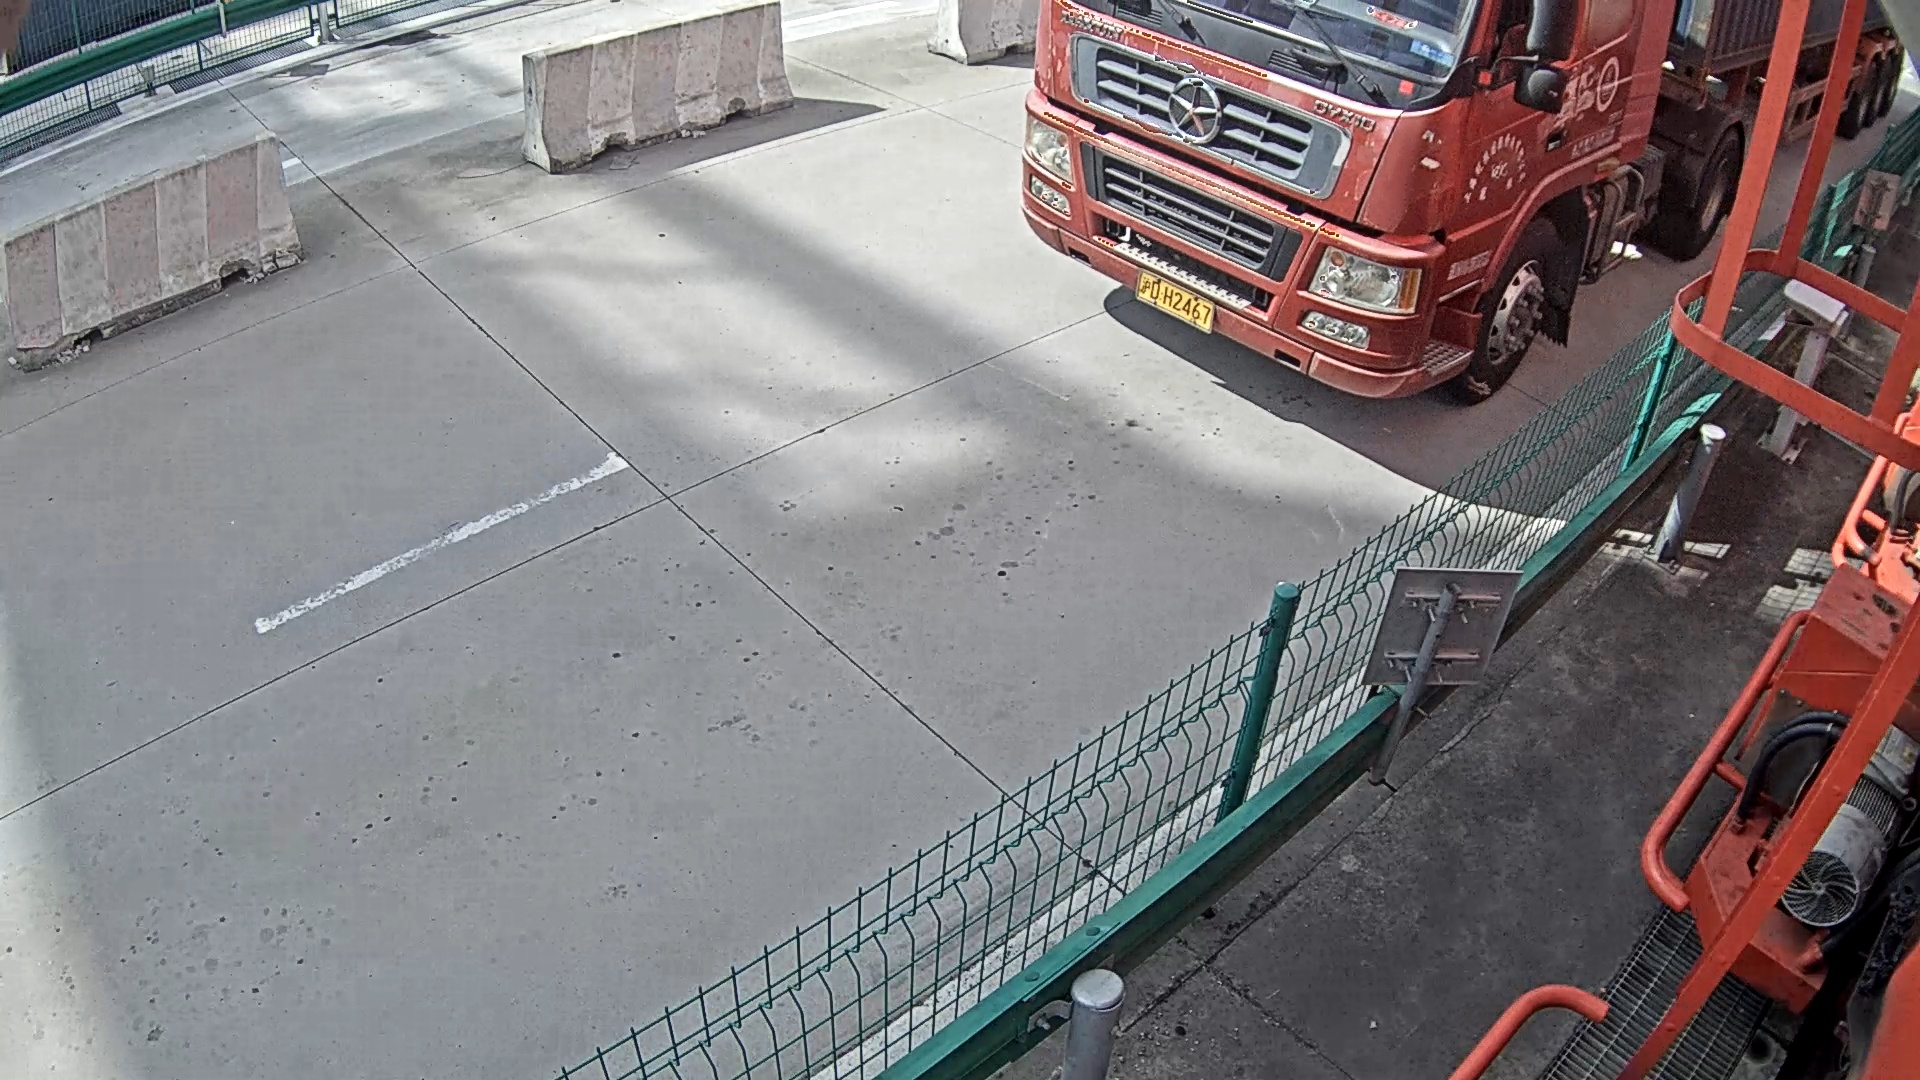head: (1028, 1, 1669, 383)
plate: (1139, 266, 1212, 333)
